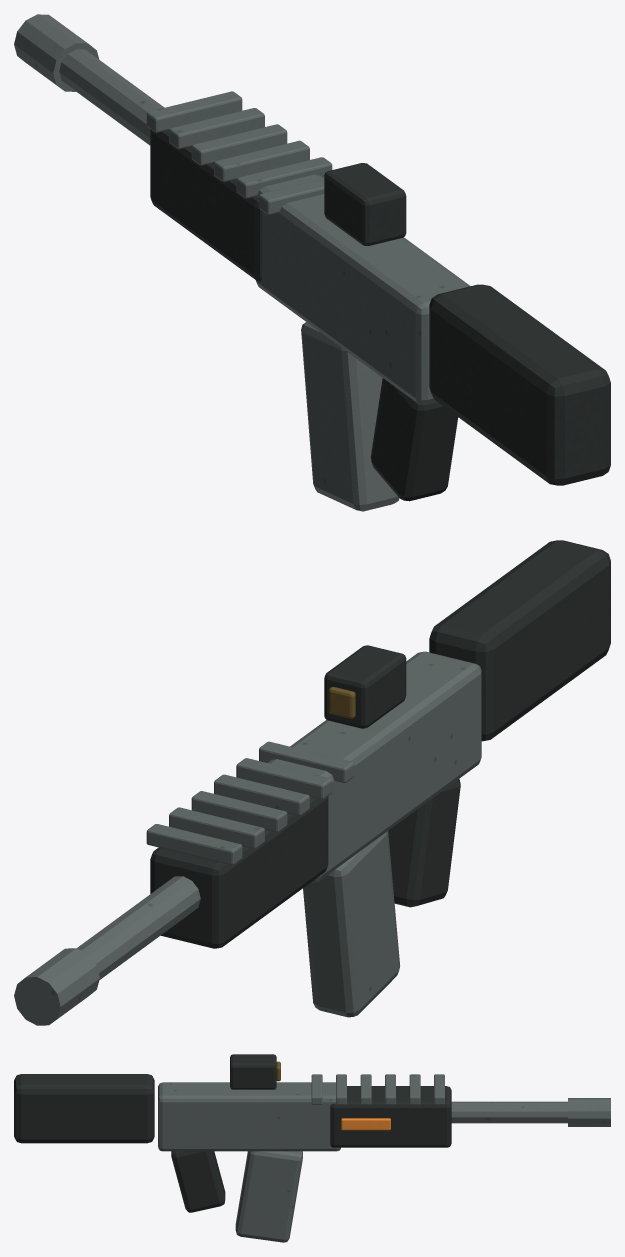
The model's file is standard_rifle_v1.glb.
The picture shows the model from 3 angles, top to bottom: view 1: azimuth 30°, elevation 25°; view 2: azimuth 150°, elevation 25°; view 3: azimuth 270°, elevation 25°; orthographic projection. The views are drawn at different scales.
Visible parts, largest first — view 1: Weapon_rifle; view 2: Weapon_rifle; view 3: Weapon_rifle.
Boxes of the visible parts, x1,y1,x2,y2 form: Weapon_rifle: (14, 14, 610, 511); Weapon_rifle: (14, 540, 610, 1025); Weapon_rifle: (14, 1054, 610, 1242).
Size of the model in its own units: 0.09 by 0.3239 by 0.975.
4 materials, 4 textured.
